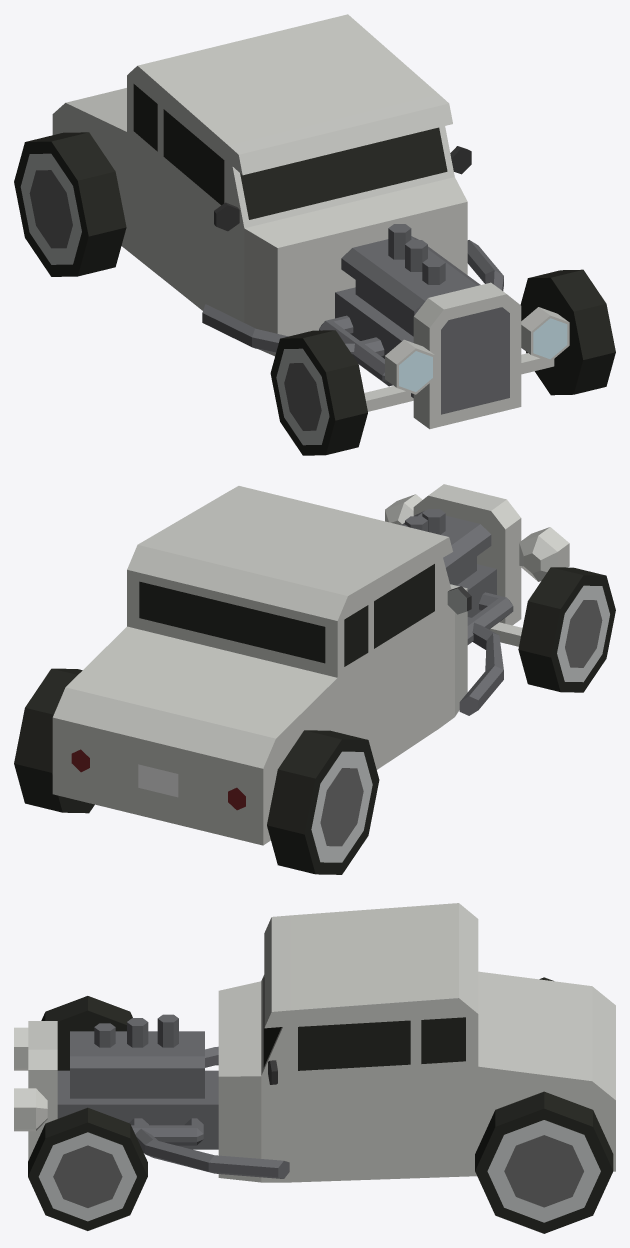
File: Veh_HotRod_White.obj
3 views of the same model, one above another, from view 1: azimuth 30°, elevation 25°; view 2: azimuth 150°, elevation 25°; view 3: azimuth 270°, elevation 25° (orthographic). The views are drawn at different scales.
Size of the model in its own units: 1.21 by 0.9391 by 2.35.
